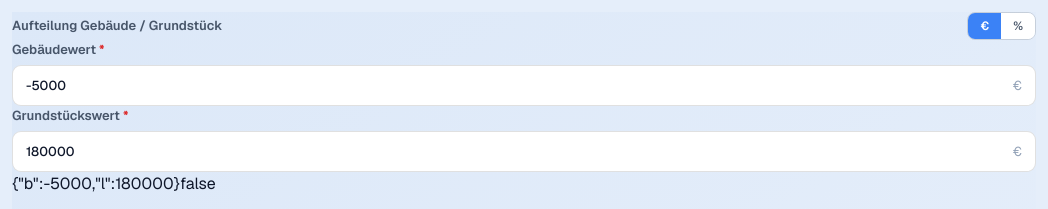
Test: BuildingShareFields › clamps a negative legacy building value to 0 when switching to percent
Click the button "%". click: (1018, 26)
box: [1001,13,1035,39]
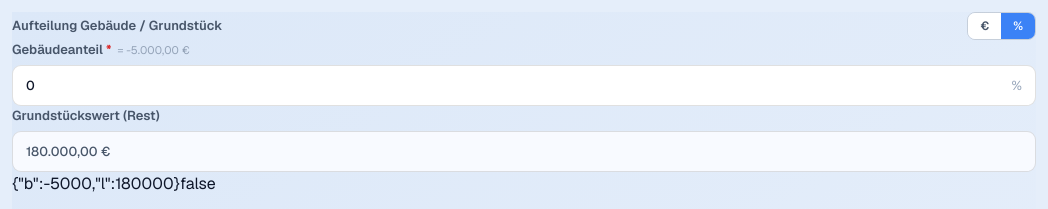
Check: the field labelled "Gebäudeanteil *= -5.000,00 € %" holds "0", box [13,66,1012,105]
